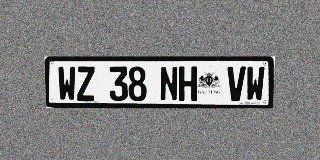3: (109, 66, 128, 101)
8: (128, 66, 147, 101)
H: (179, 66, 197, 101)
N: (160, 66, 178, 101)
V: (227, 66, 246, 101)
W: (57, 66, 76, 101), (246, 66, 265, 101)
Z: (76, 66, 95, 101)
